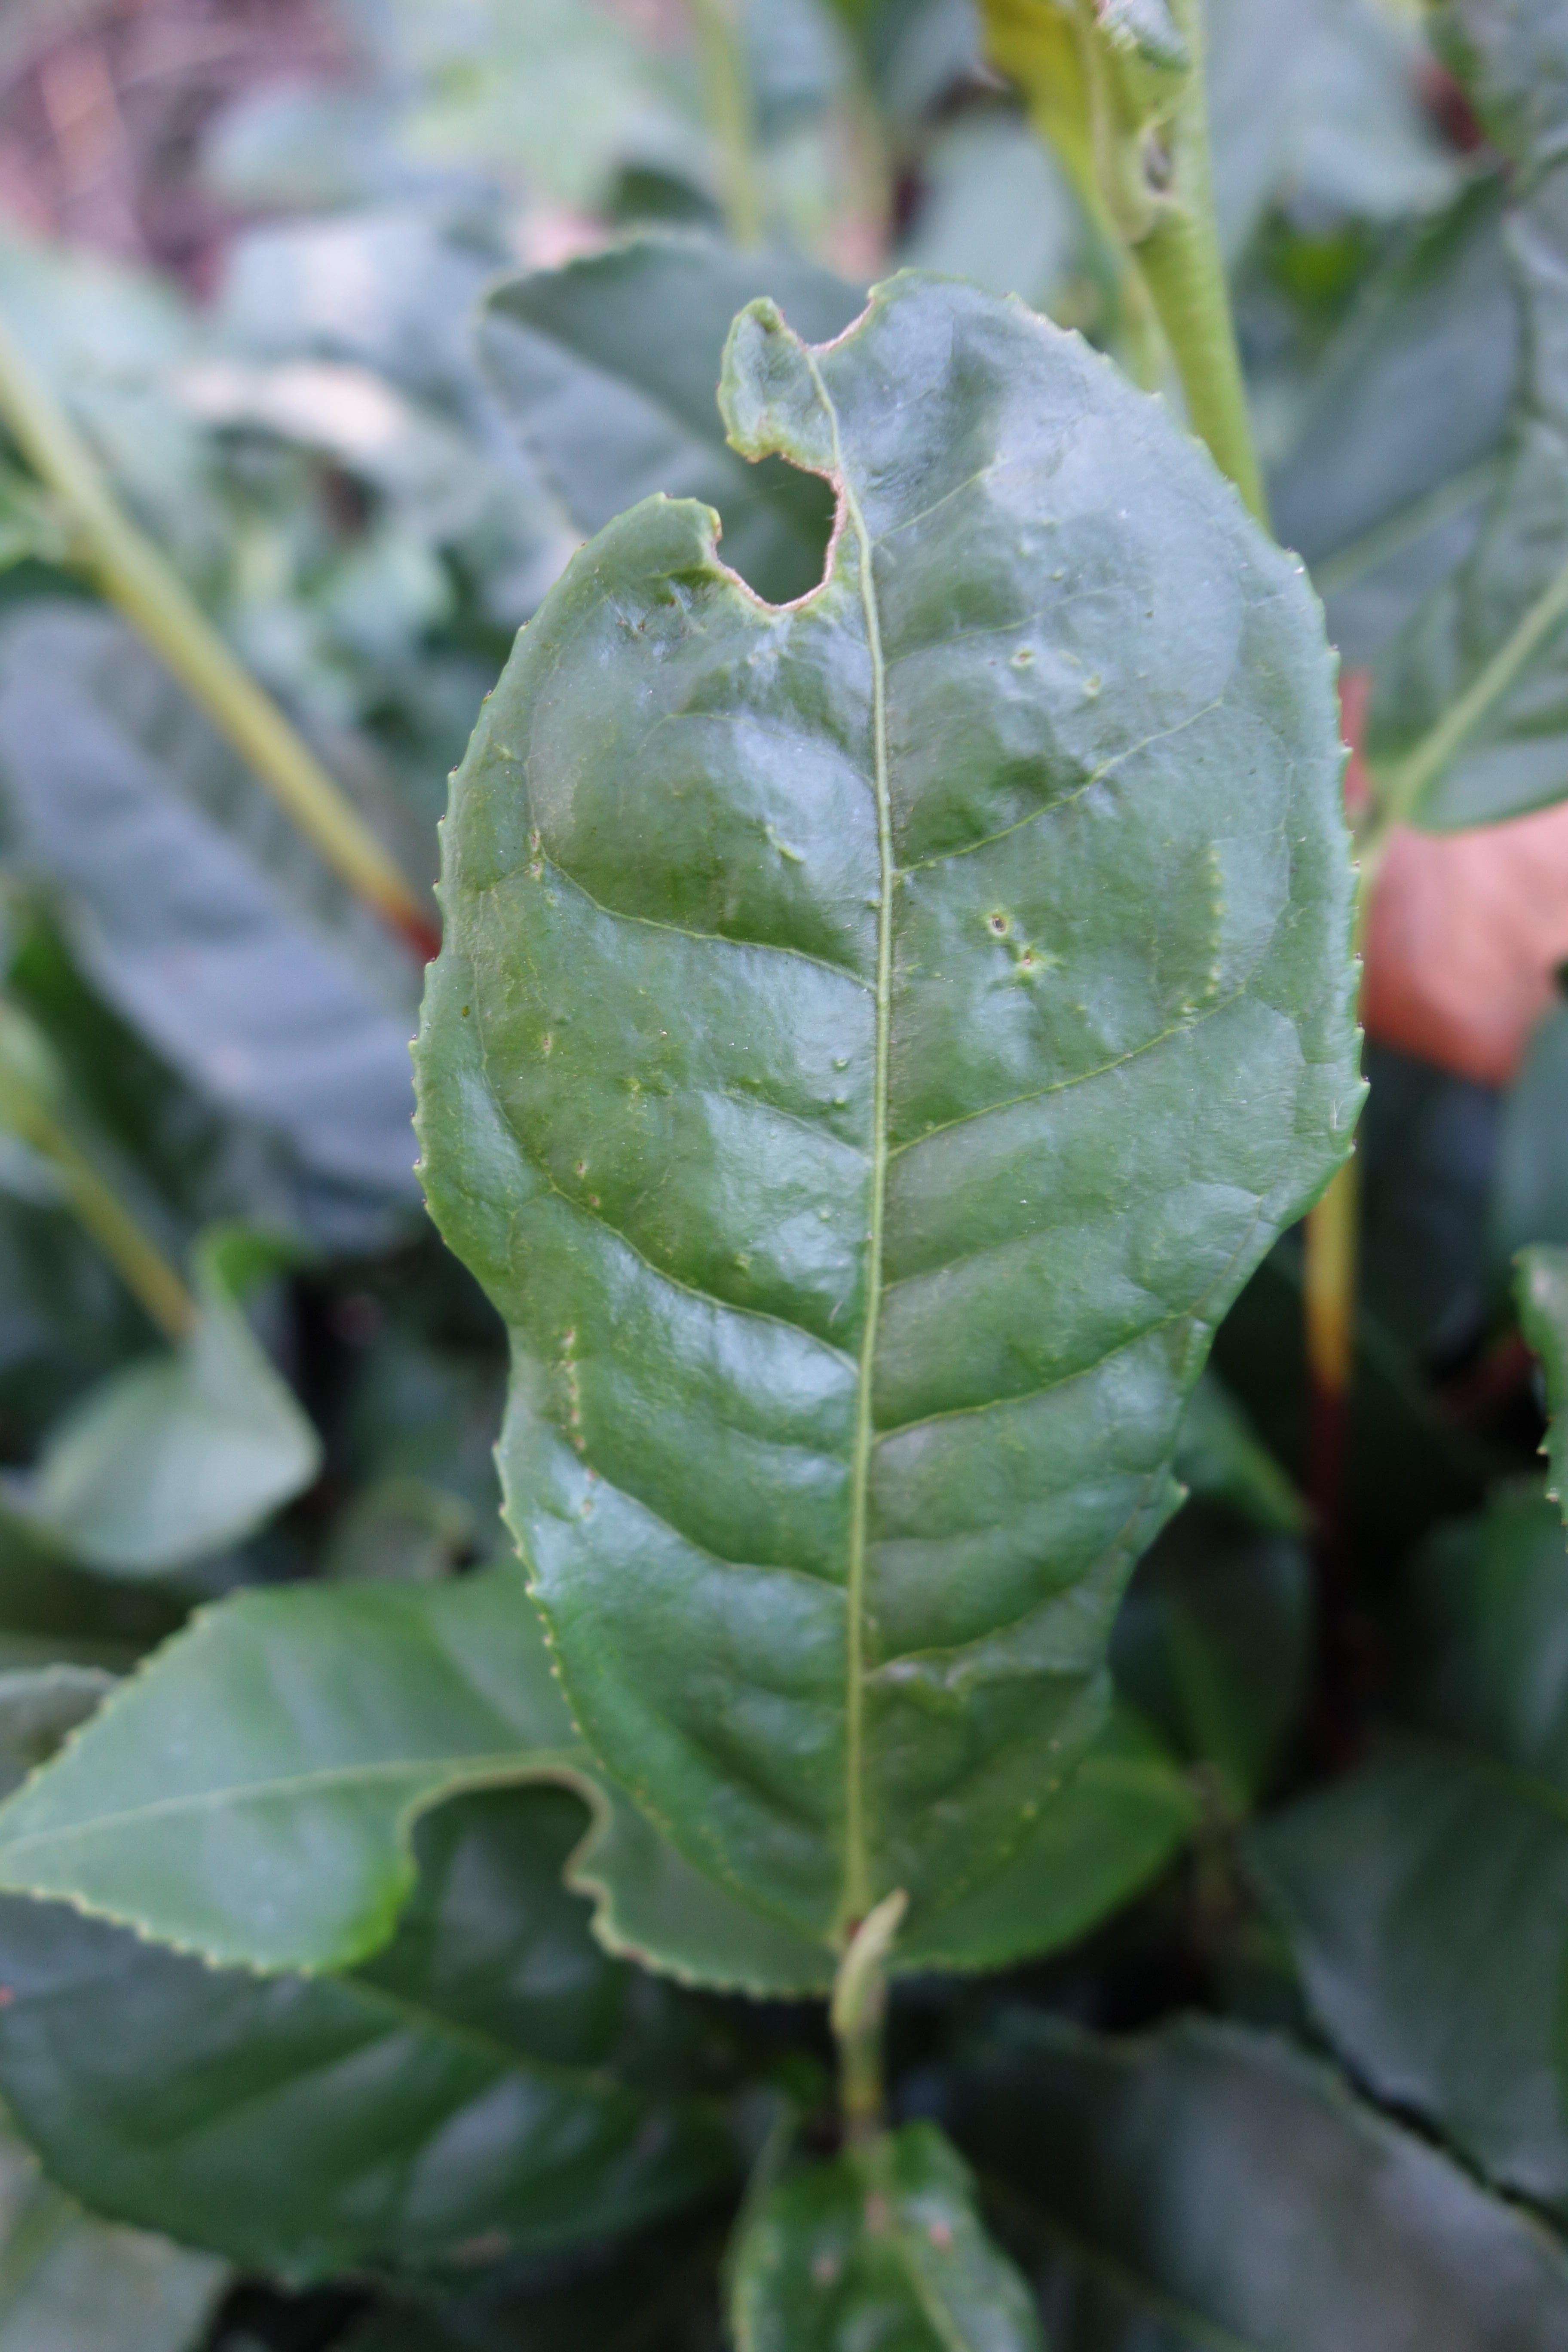chihuo_high: (397, 266, 1375, 1958)
